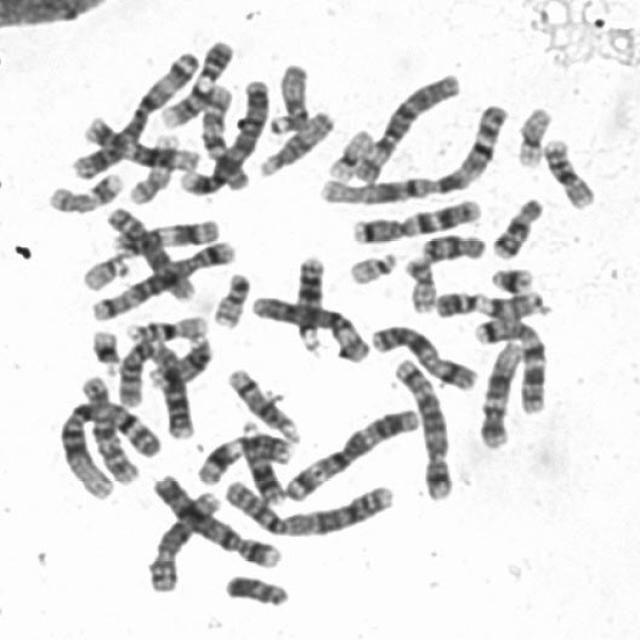A1: (311, 94, 512, 206), (51, 391, 163, 501)
A2: (214, 470, 398, 539), (109, 330, 197, 440)
A3: (66, 42, 202, 181), (276, 400, 422, 503)
B4: (146, 464, 284, 570), (174, 72, 272, 197)
B5: (85, 232, 240, 322), (388, 350, 456, 501)
C10: (73, 369, 141, 487), (193, 78, 251, 194)
C11: (190, 424, 298, 487), (107, 211, 221, 255)
C12: (79, 109, 204, 173), (472, 334, 526, 451)
C6: (347, 64, 463, 185), (244, 286, 373, 364)
C7: (466, 307, 552, 415), (345, 190, 486, 245)
C8: (100, 197, 198, 303), (140, 481, 223, 595)
C9: (154, 31, 236, 130), (426, 282, 554, 321)
D13: (233, 414, 289, 507), (289, 248, 328, 353)
D14: (220, 359, 304, 444), (142, 327, 215, 392)
D15: (252, 102, 338, 179), (264, 56, 314, 136)
E16: (536, 131, 598, 210), (119, 307, 210, 343)
E17: (123, 128, 181, 205), (40, 164, 126, 214)
E18: (484, 190, 546, 261), (414, 225, 490, 264)
F19: (321, 122, 376, 182), (509, 99, 555, 169)
F20: (206, 264, 252, 330), (397, 248, 440, 314)
G21: (84, 321, 122, 373), (483, 258, 537, 294)
G22: (74, 246, 132, 292), (341, 244, 401, 286)
X: (363, 315, 481, 393)
Y: (217, 567, 293, 609)
